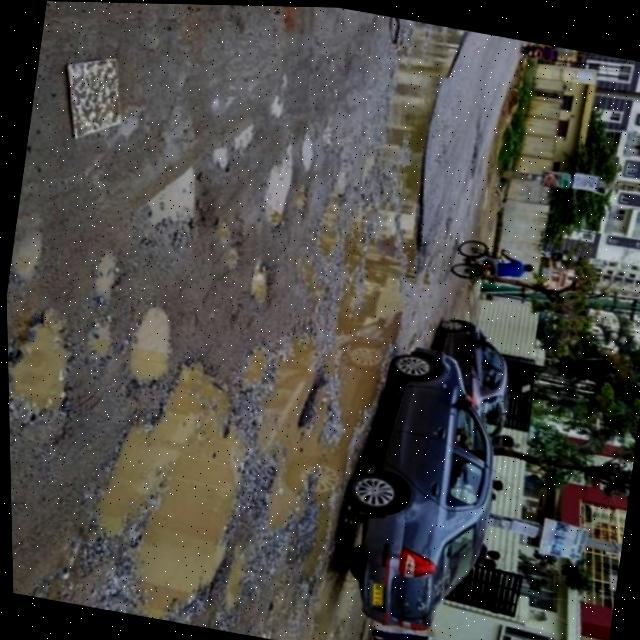Pothole: (275, 188, 446, 640), (92, 341, 262, 631), (350, 14, 494, 294), (226, 303, 354, 552), (5, 295, 96, 434), (129, 143, 205, 245), (299, 140, 354, 263), (120, 285, 182, 391), (218, 525, 258, 628), (260, 127, 295, 220), (7, 208, 41, 286), (83, 315, 124, 374), (198, 106, 231, 176), (86, 236, 115, 300), (251, 243, 281, 303), (238, 334, 269, 389), (256, 77, 289, 122), (288, 131, 318, 169), (224, 110, 255, 146), (285, 175, 305, 218), (359, 141, 372, 174)
